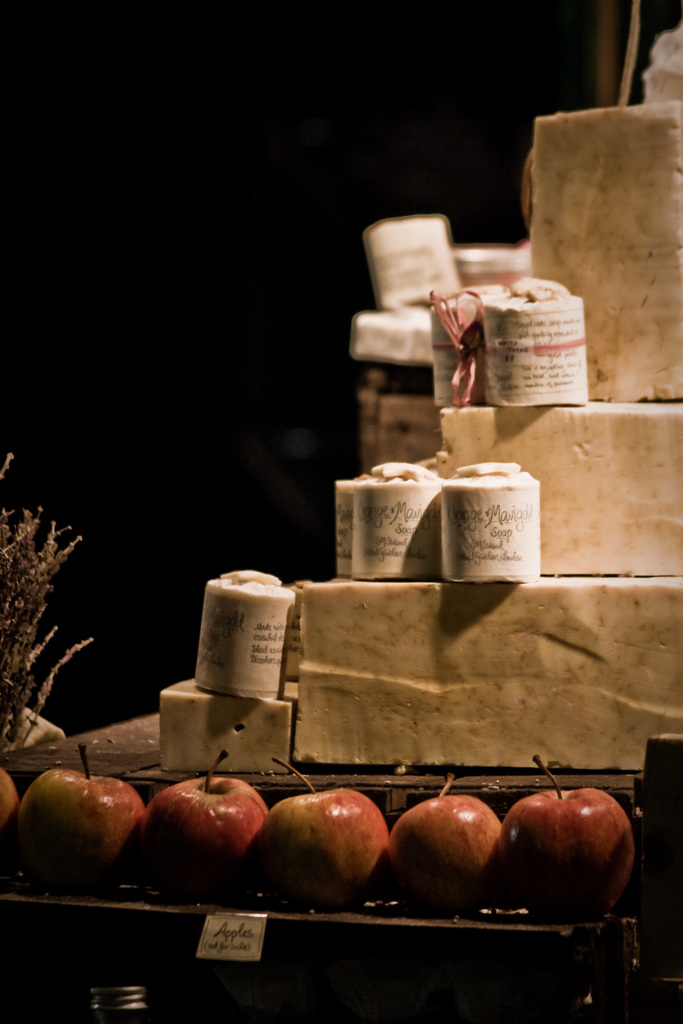Apple: (506, 753, 640, 926), (142, 750, 268, 907), (23, 744, 148, 900), (391, 777, 506, 912), (256, 801, 395, 908), (0, 772, 25, 837)
